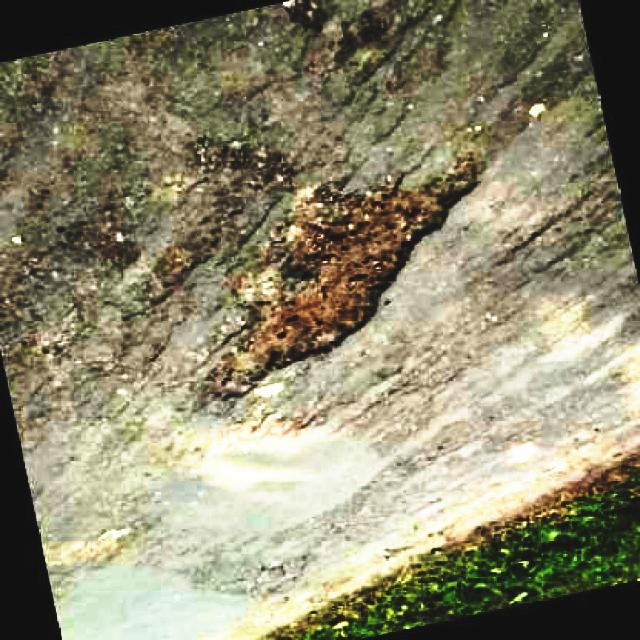pothole: (215, 168, 492, 408), (41, 525, 150, 580)
